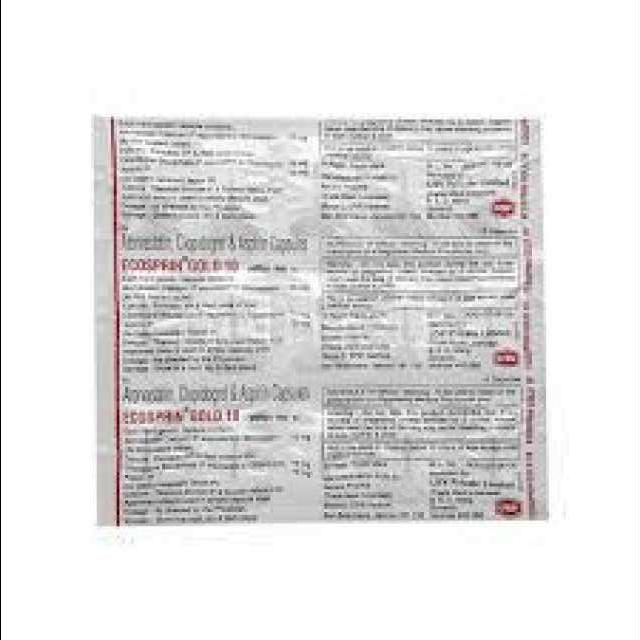authentic: (78, 96, 561, 536)
